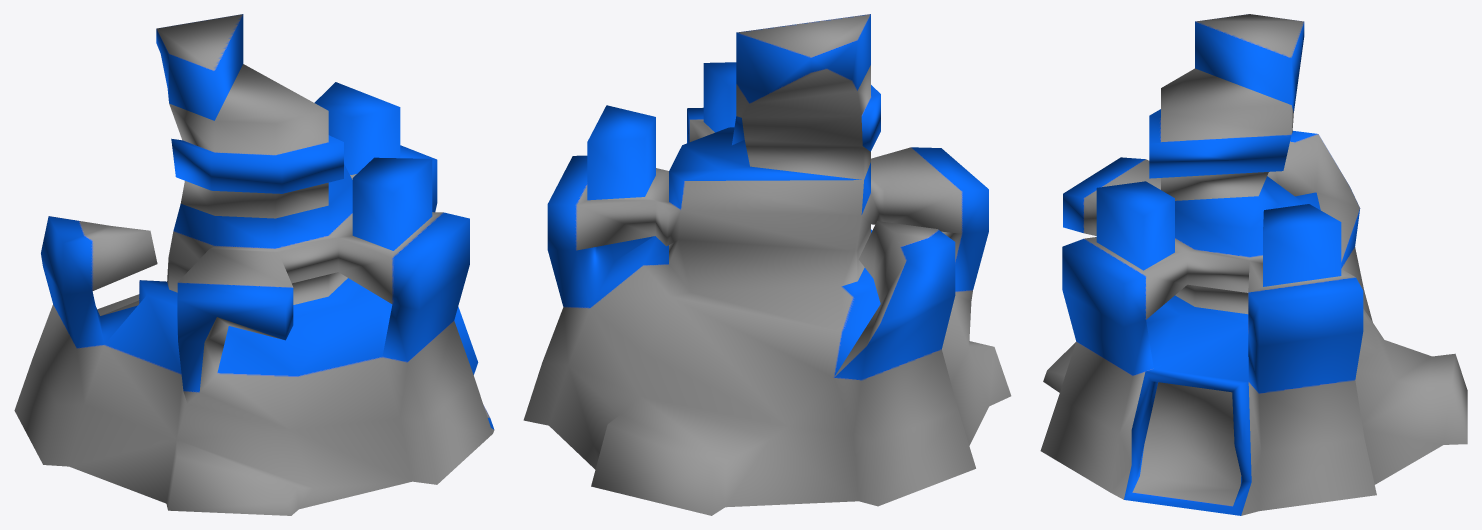
The model's file is headquater_destroed.fbx.
3 renders of one model, left to right at view 1: azimuth 30°, elevation 25°; view 2: azimuth 150°, elevation 25°; view 3: azimuth 270°, elevation 25°, orthographic. The views are drawn at different scales.
Visible parts, largest first — view 1: headquater_destroed; view 2: headquater_destroed; view 3: headquater_destroed.
Boxes of the visible parts, x1=… form: headquater_destroed: x1=14, y1=14, x2=494, y2=515; headquater_destroed: x1=523, y1=14, x2=1011, y2=515; headquater_destroed: x1=1040, y1=14, x2=1467, y2=515.
Size of the model in its own units: 33.85 by 30.47 by 32.12.
1 material, 1 textured.
